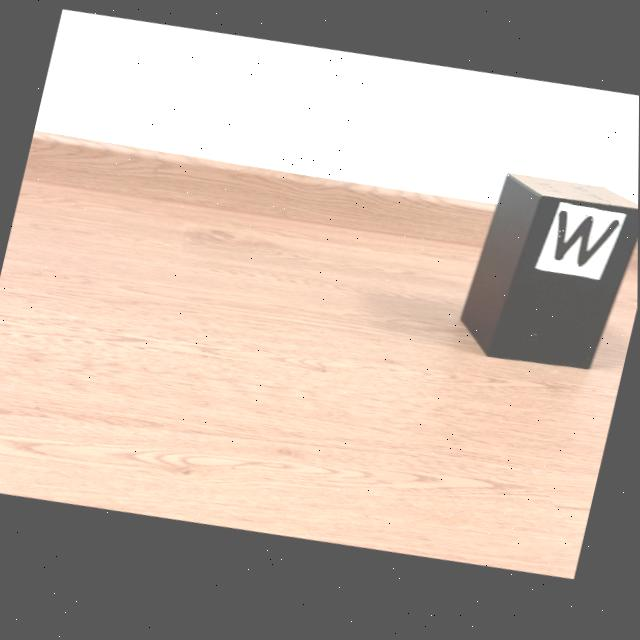W: (554, 221, 619, 276)
